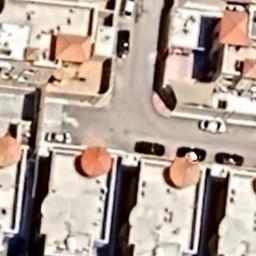others: (198, 113, 232, 138), (39, 130, 75, 146)
unknown: (214, 148, 246, 168), (134, 140, 166, 158), (176, 144, 206, 163)
van: (114, 28, 134, 60), (122, 0, 136, 18)
